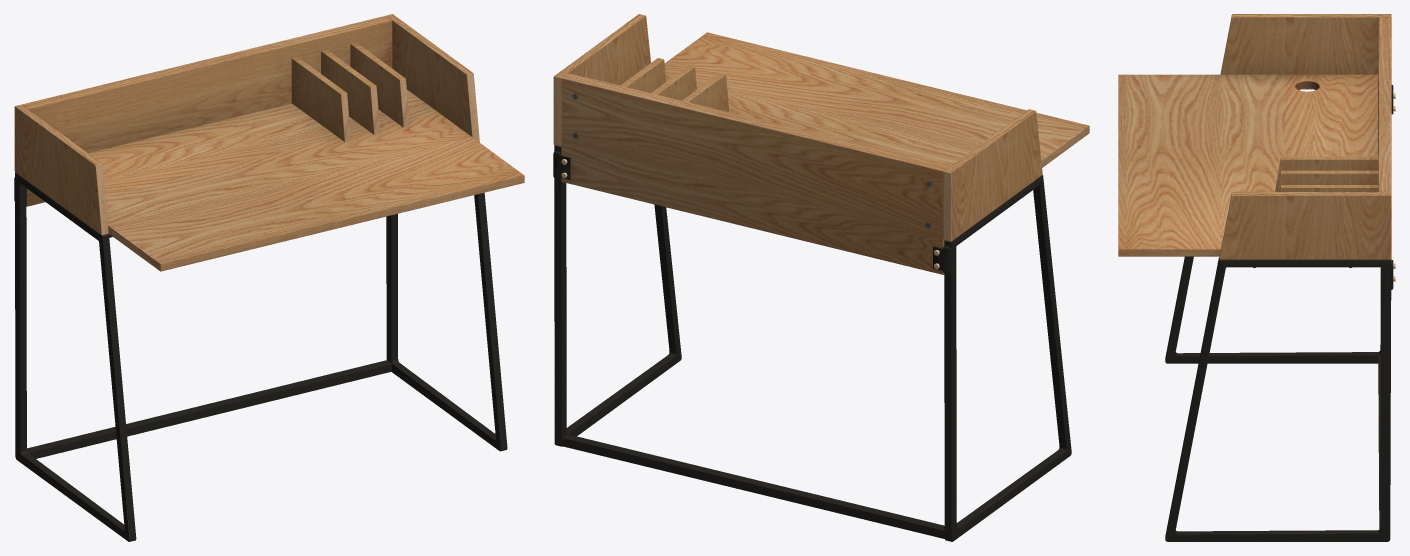
3 views of the same model, side by side, from view 1: azimuth 30°, elevation 25°; view 2: azimuth 150°, elevation 25°; view 3: azimuth 270°, elevation 25° (orthographic). The views are drawn at different scales.
Visible parts, largest first — view 1: visual_RootNode; view 2: visual_RootNode; view 3: visual_RootNode.
Part boxes in pixels (x1,y1,x2,y2): visual_RootNode: (14, 14, 524, 541); visual_RootNode: (553, 14, 1089, 541); visual_RootNode: (1118, 14, 1395, 541).
Size of the model in its own units: 1.19 by 0.7691 by 1.06.
Materials: 1 (1 with a texture image).
